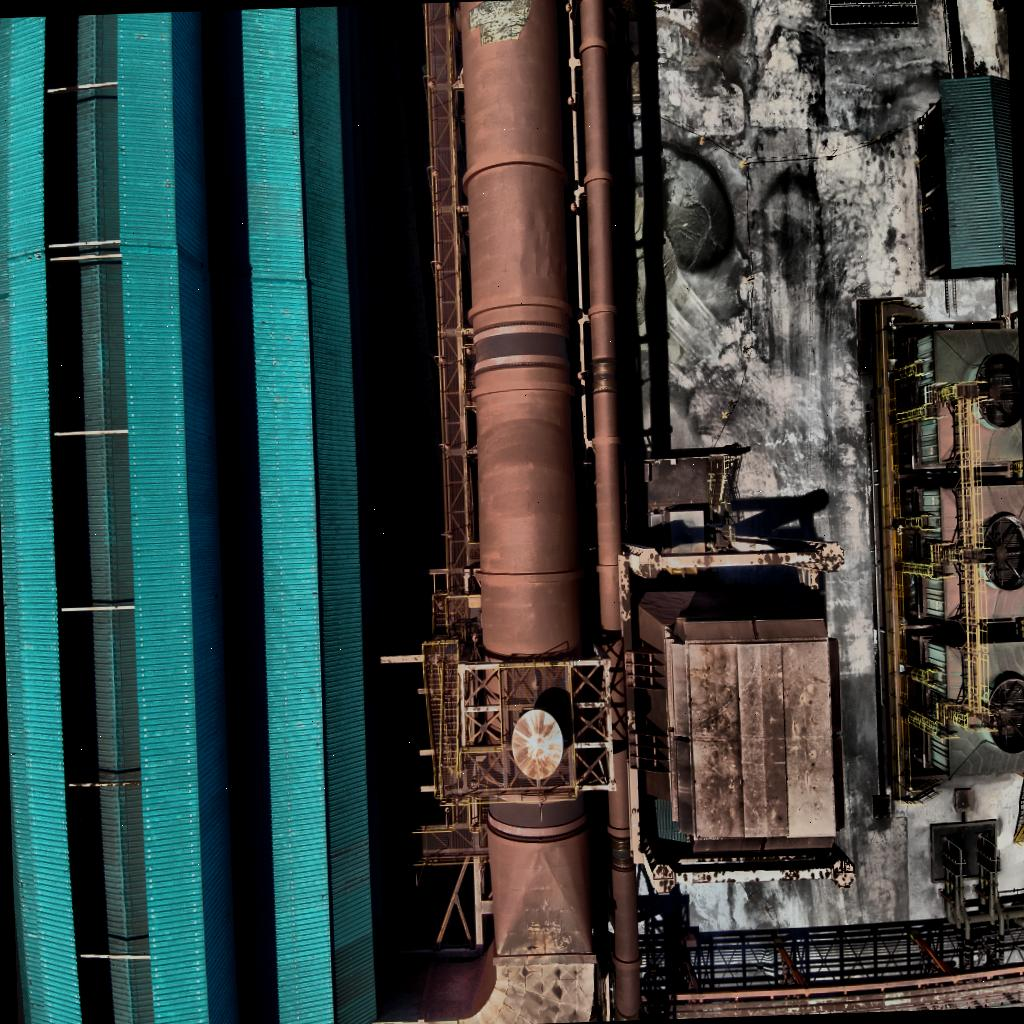Failures: (468, 0, 537, 45)
